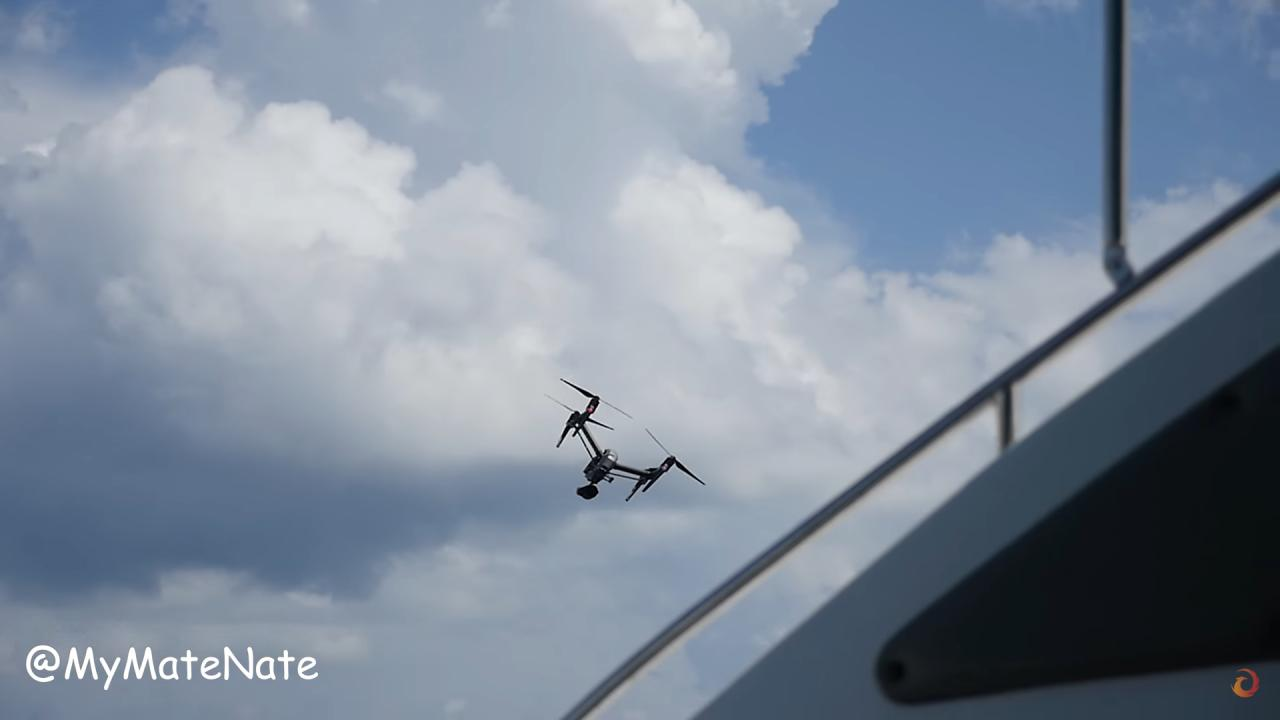Drone: (537, 369, 715, 511)
